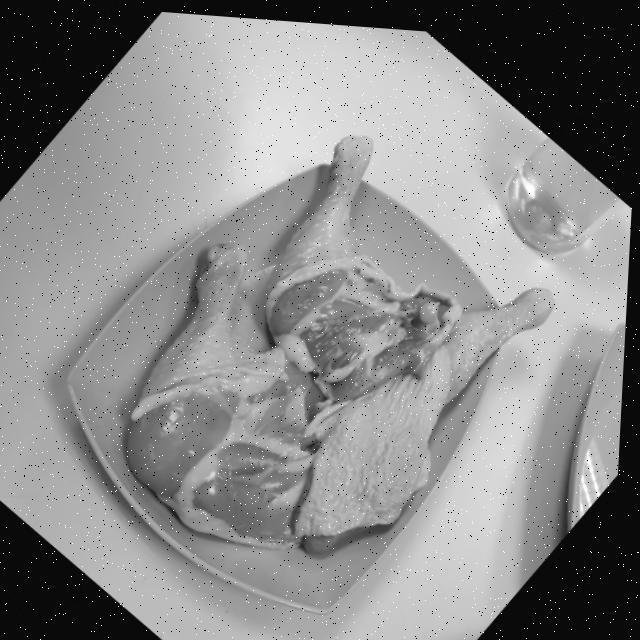quater: (318, 288, 562, 550), (164, 227, 300, 544), (282, 123, 429, 369)
